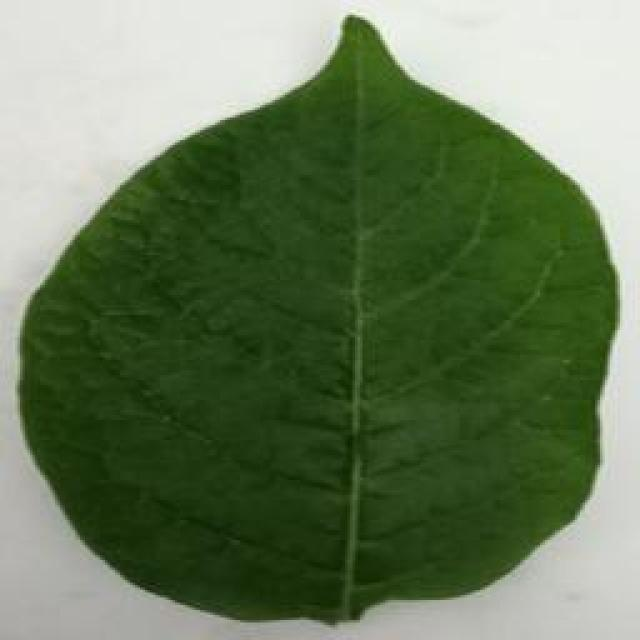Potato_Healthy: (4, 11, 628, 640)
